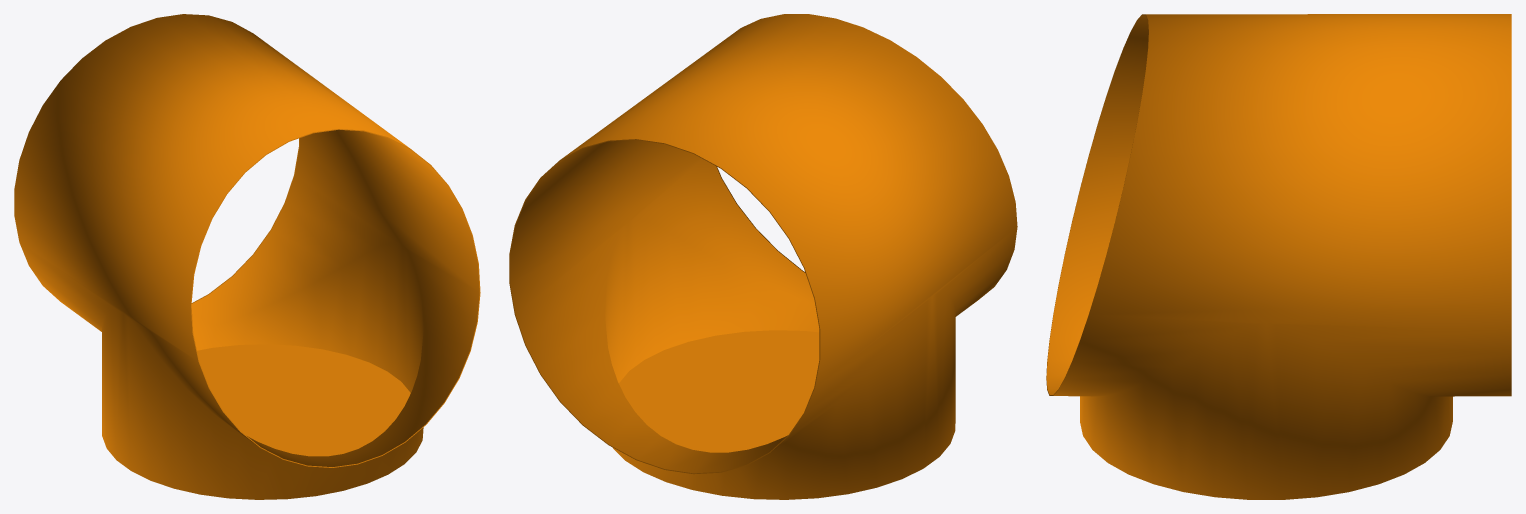
3 views of the same model, side by side, from view 1: azimuth 30°, elevation 25°; view 2: azimuth 150°, elevation 25°; view 3: azimuth 270°, elevation 25° (orthographic). The views are drawn at different scales.
Bounding box in the file's own units: 0.077 × 0.0865 × 0.0935.
